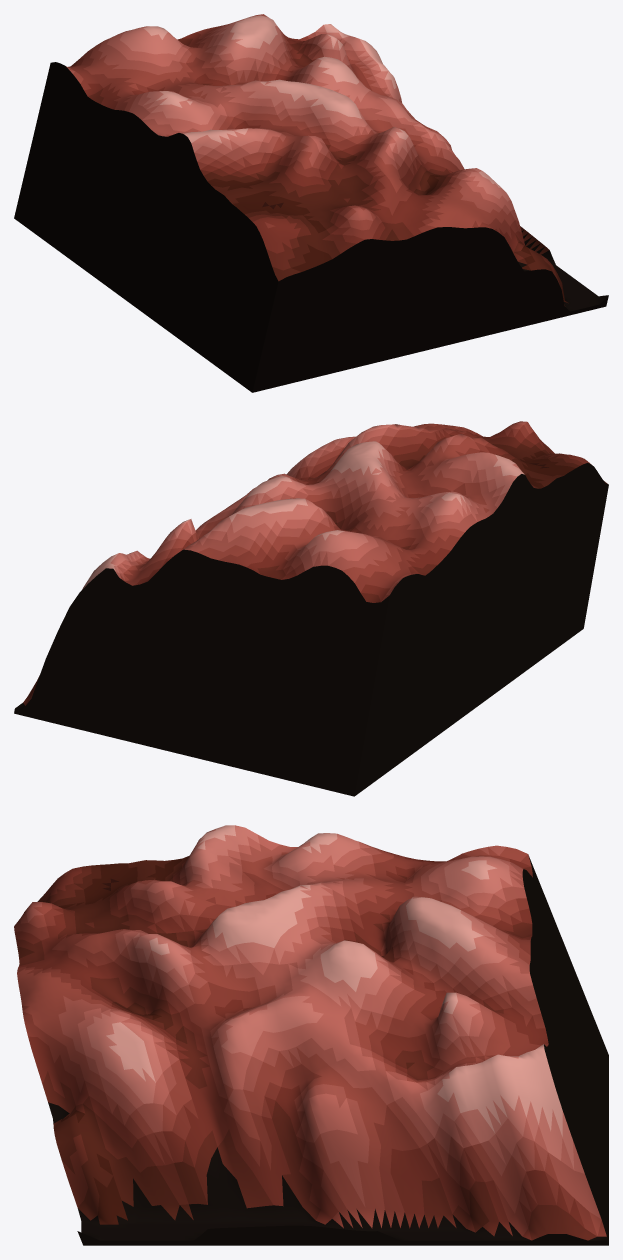
The model's file is brain_mid_2.glb.
3 renders of one model, top to bottom at view 1: azimuth 30°, elevation 25°; view 2: azimuth 150°, elevation 25°; view 3: azimuth 270°, elevation 25°, orthographic. The views are drawn at different scales.
Visible parts, largest first — view 1: brain_mid_2; view 2: brain_mid_2; view 3: brain_mid_2.
Boxes of the visible parts, left/top/right/bottom form: brain_mid_2: left=14, top=14, right=608, bottom=392; brain_mid_2: left=14, top=421, right=608, bottom=796; brain_mid_2: left=14, top=825, right=608, bottom=1245.
Size of the model in its own units: 24 by 13.8 by 31.69.
